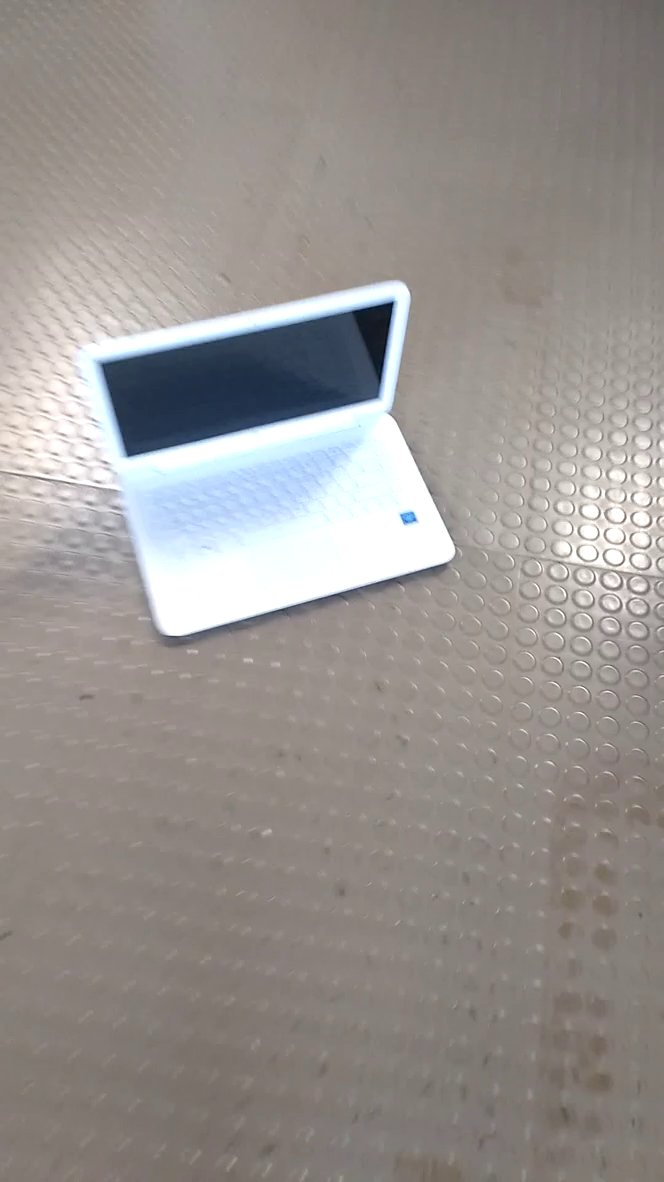laptop: (77, 274, 474, 650)
